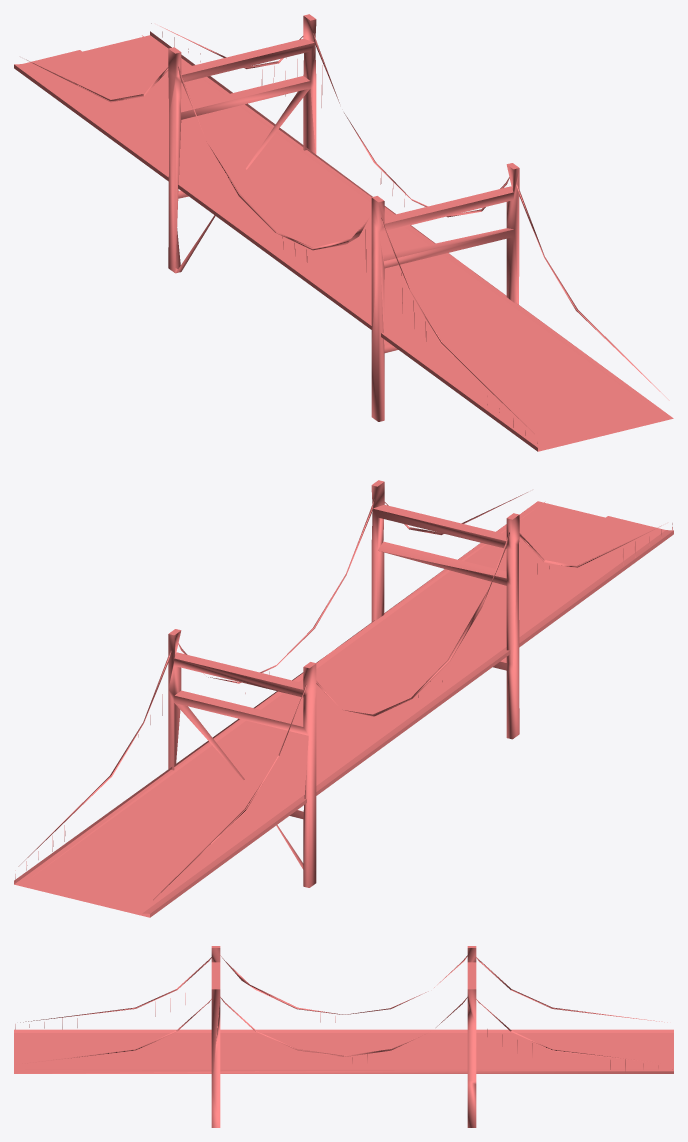
File: bridge.glb
3 views of the same model, one above another, from view 1: azimuth 30°, elevation 25°; view 2: azimuth 150°, elevation 25°; view 3: azimuth 270°, elevation 25° (orthographic). The views are drawn at different scales.
Parts seen in each view (by area): view 1: Bridge; view 2: Bridge; view 3: Bridge.
Boxes of the visible parts, x1,y1,x2,y2 form: Bridge: (14, 14, 673, 451); Bridge: (14, 480, 673, 917); Bridge: (14, 946, 673, 1127).
Bounding box in the file's own units: 18.66 × 27.78 × 120.
